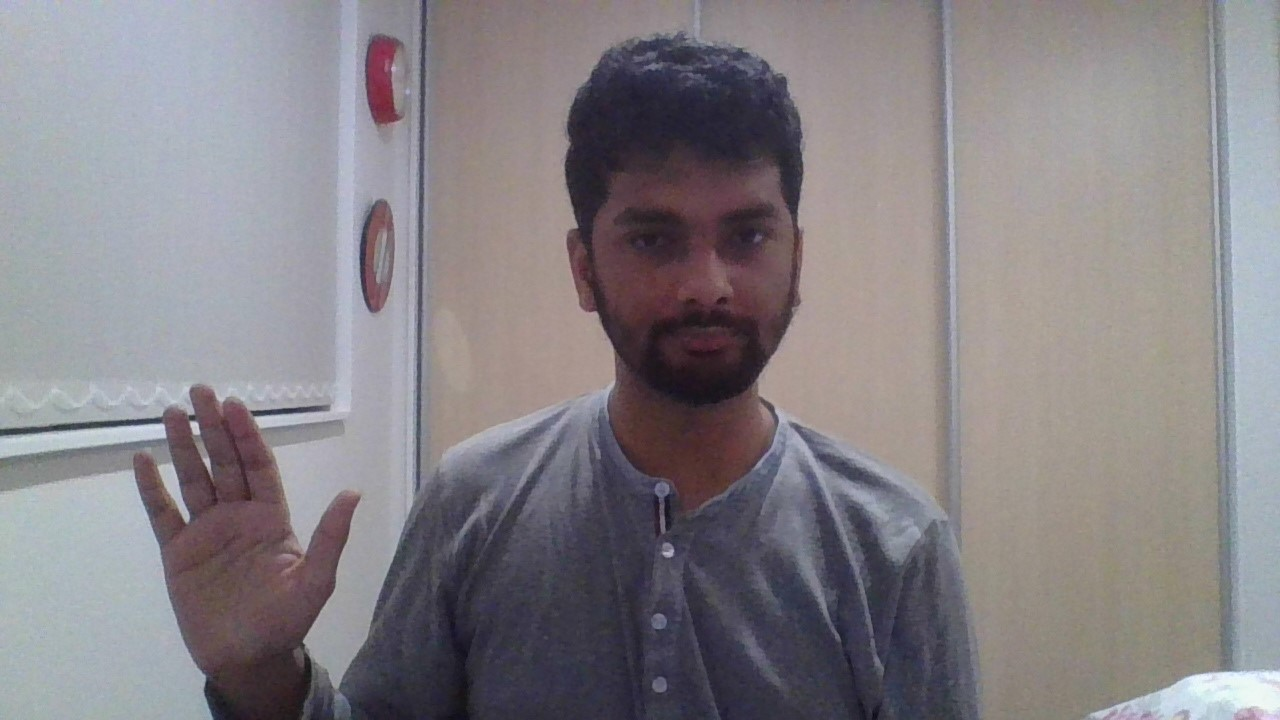hello: (133, 383, 361, 673)
